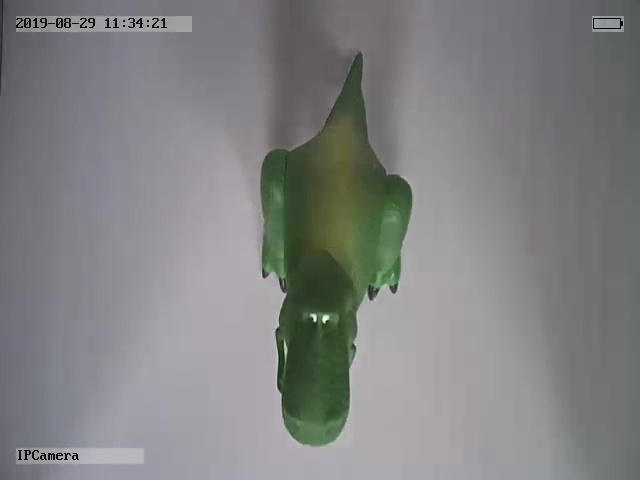rex: (255, 51, 413, 447)
